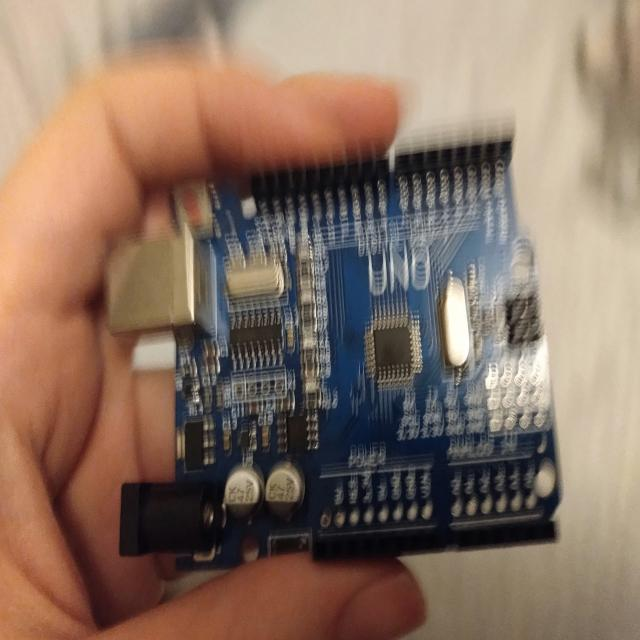arduino: (109, 123, 561, 549)
